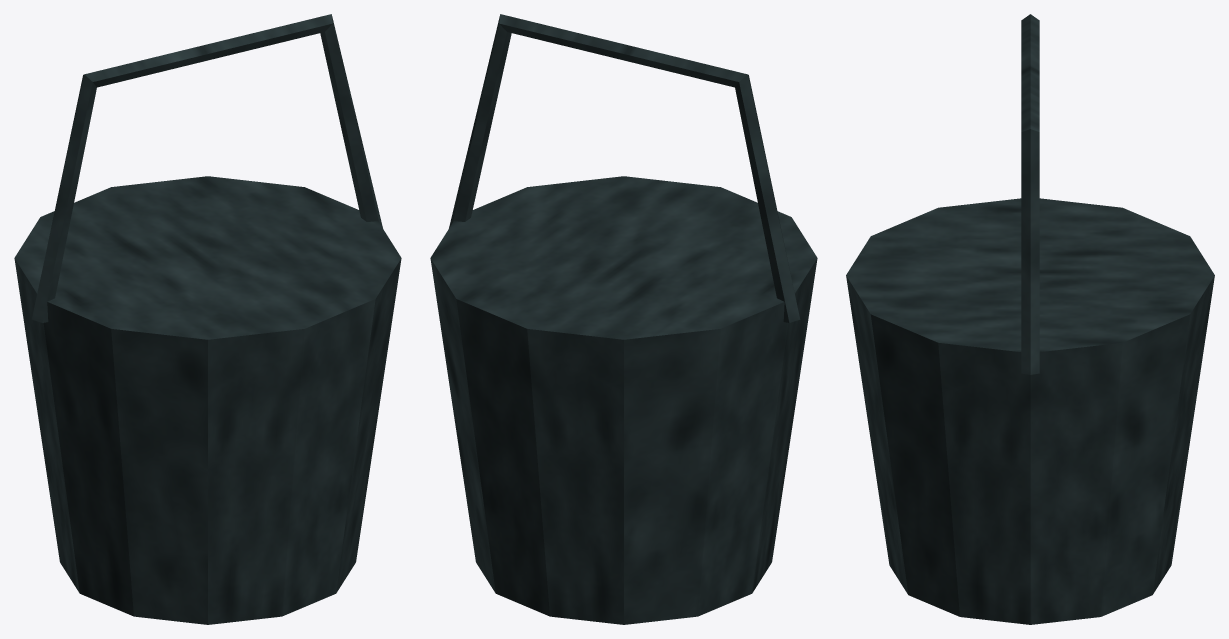
The model's file is Bucket.glb.
3 views of the same model, side by side, from view 1: azimuth 30°, elevation 25°; view 2: azimuth 150°, elevation 25°; view 3: azimuth 270°, elevation 25° (orthographic). The views are drawn at different scales.
Visible parts, largest first — view 1: Bucket; view 2: Bucket; view 3: Bucket.
Part boxes in pixels (<box>): Bucket: <box>14,14,401,624</box>; Bucket: <box>430,14,817,624</box>; Bucket: <box>846,14,1214,624</box>.
Size of the model in its own units: 0.3576 by 0.5022 by 0.34.
Materials: 1 (1 with a texture image).
